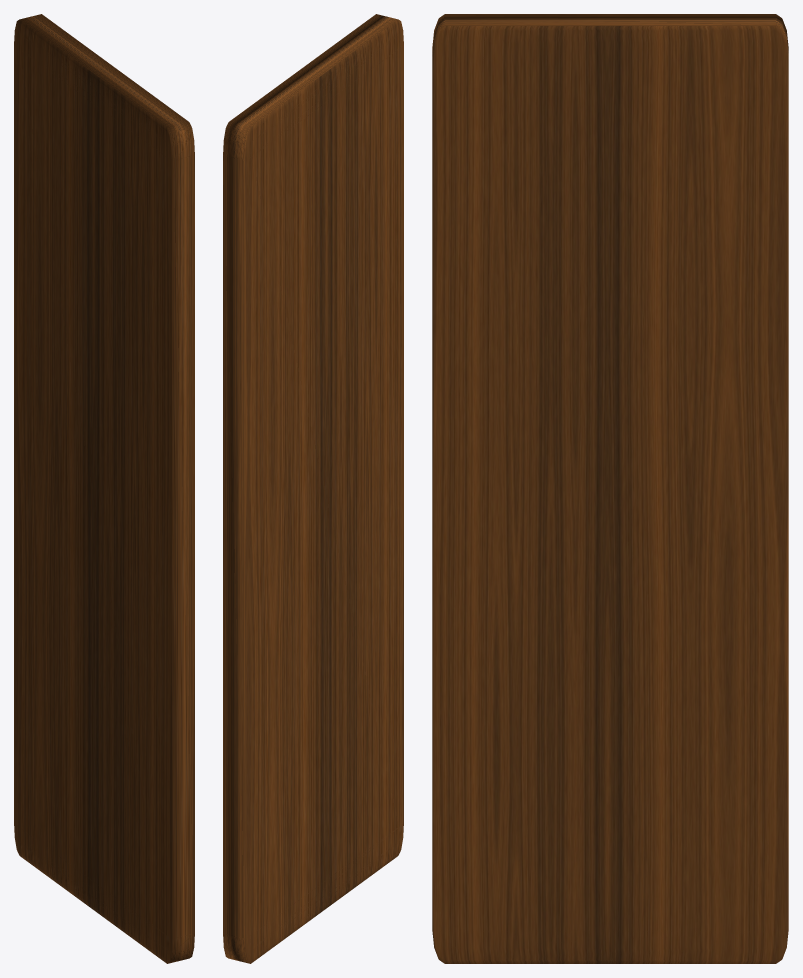
File: TABLA COFFE POINT.fbx
3 renders of one model, left to right at view 1: azimuth 30°, elevation 25°; view 2: azimuth 150°, elevation 25°; view 3: azimuth 270°, elevation 25°, orthographic. The views are drawn at different scales.
Parts seen in each view (by area): view 1: Cube; view 2: Cube; view 3: Cube.
Part boxes in pixels (<box>): Cube: <box>14,14,194,963</box>; Cube: <box>223,14,403,963</box>; Cube: <box>432,14,788,963</box>.
Size of the model in its own units: 17.36 by 581 by 200.
